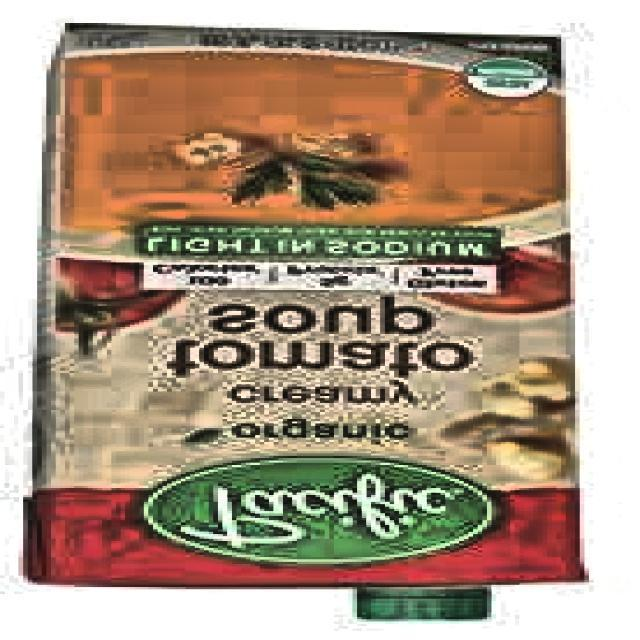cardboard: (23, 28, 584, 594)
